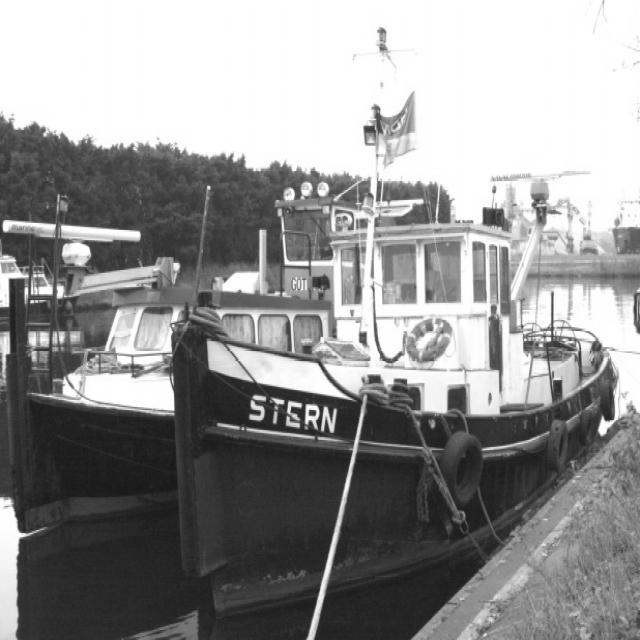tugboat: (166, 1, 621, 635)
